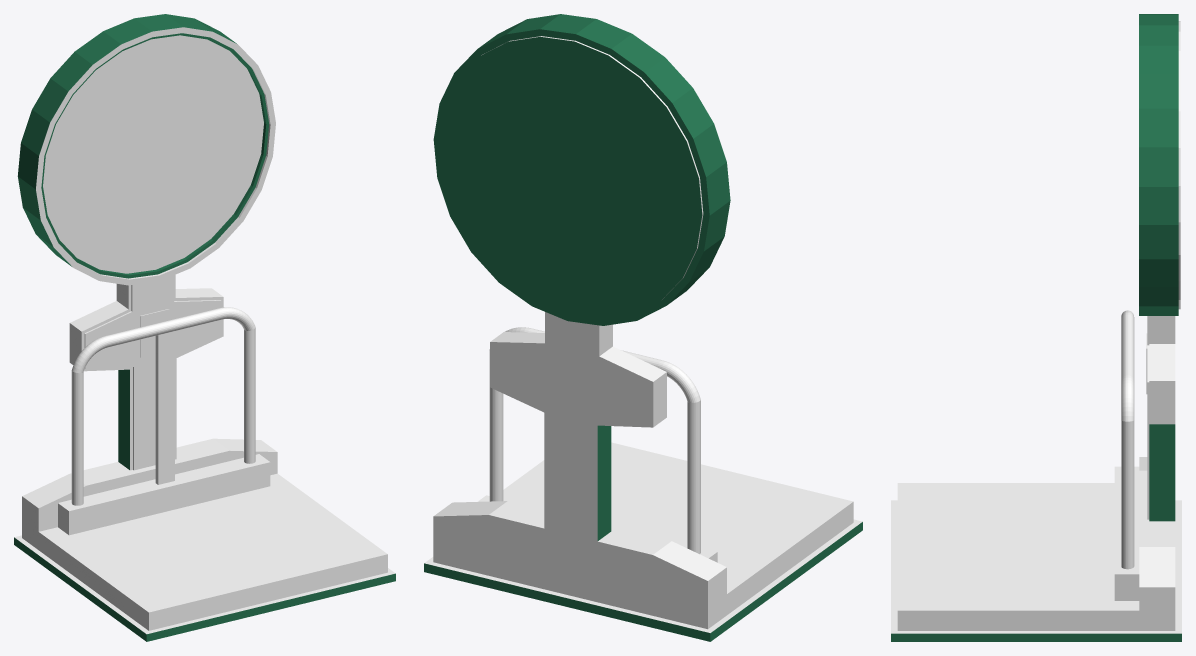
Rendered from Scale.fbx.
3 renders of one model, left to right at view 1: azimuth 30°, elevation 25°; view 2: azimuth 150°, elevation 25°; view 3: azimuth 270°, elevation 25°, orthographic. The views are drawn at different scales.
Parts seen in each view (by area): view 1: Group_001; view 2: Group_001; view 3: Group_001.
Part boxes in pixels (box(x1,y1,x2,y2)): Group_001: box(14, 14, 395, 641); Group_001: box(424, 14, 862, 641); Group_001: box(891, 14, 1181, 641).
Bounding box in the file's own units: 22.81 × 43.63 × 21.03.
